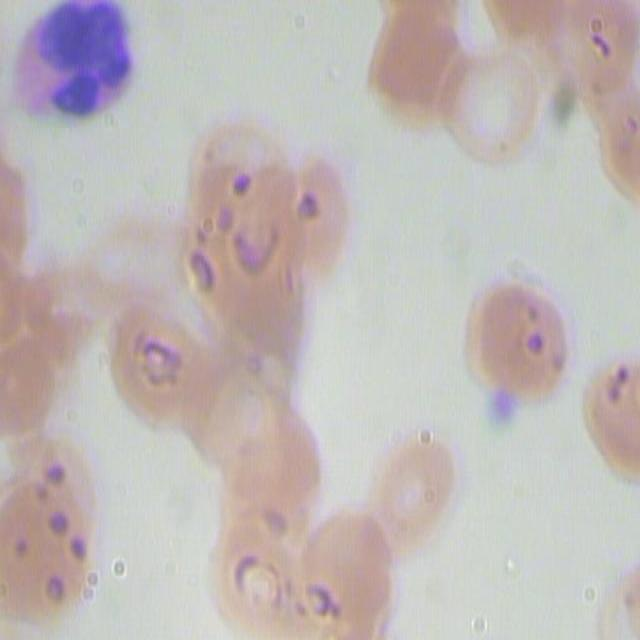RBC: (202, 358, 326, 570), (231, 101, 328, 349), (106, 246, 228, 426), (0, 451, 99, 633), (461, 266, 572, 412), (277, 506, 397, 638), (431, 47, 545, 170), (7, 268, 85, 435), (389, 16, 489, 132), (507, 8, 640, 88), (586, 352, 640, 476), (397, 438, 450, 560), (592, 86, 640, 206), (7, 172, 32, 311)
WBC: (15, 7, 162, 139)
platelets: (481, 387, 521, 433)
